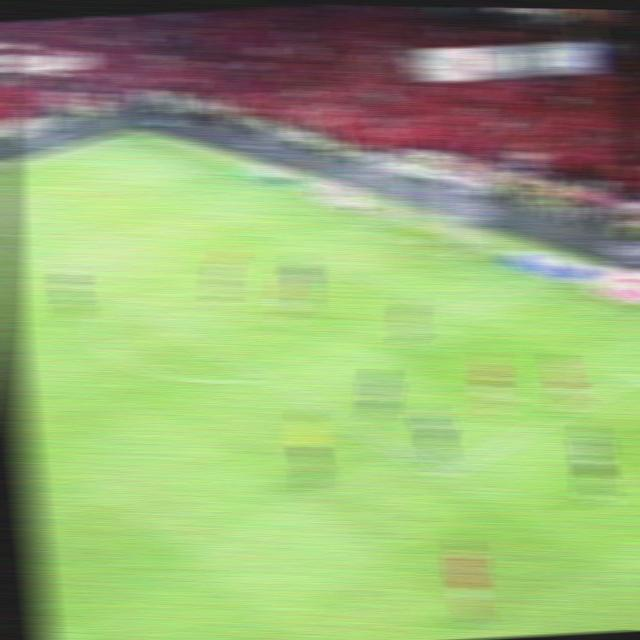bigarea_bottom_inner: (430, 465, 457, 484)
bigarea_top_inner: (3, 235, 25, 250)
bigarea_top_outter: (215, 168, 237, 179)
bottom_arc_area_intersection: (253, 370, 277, 387)
corner: (113, 132, 136, 140)
smallarea_bottom_inner: (440, 301, 470, 323)
smallarea_bottom_outter: (514, 274, 537, 285)
smallarea_top_inner: (245, 226, 271, 241)
top_arc_area_intersection: (105, 290, 128, 305)
